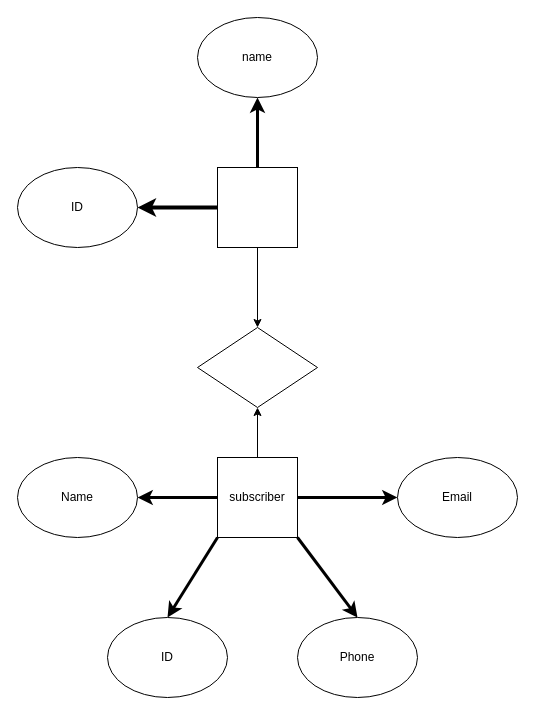
This 535x715 diagram has some shape labels left out. Each missing label, with the centre of its shape:
"Has A" goes at [257,367].
"subscription" goes at [257,207].
